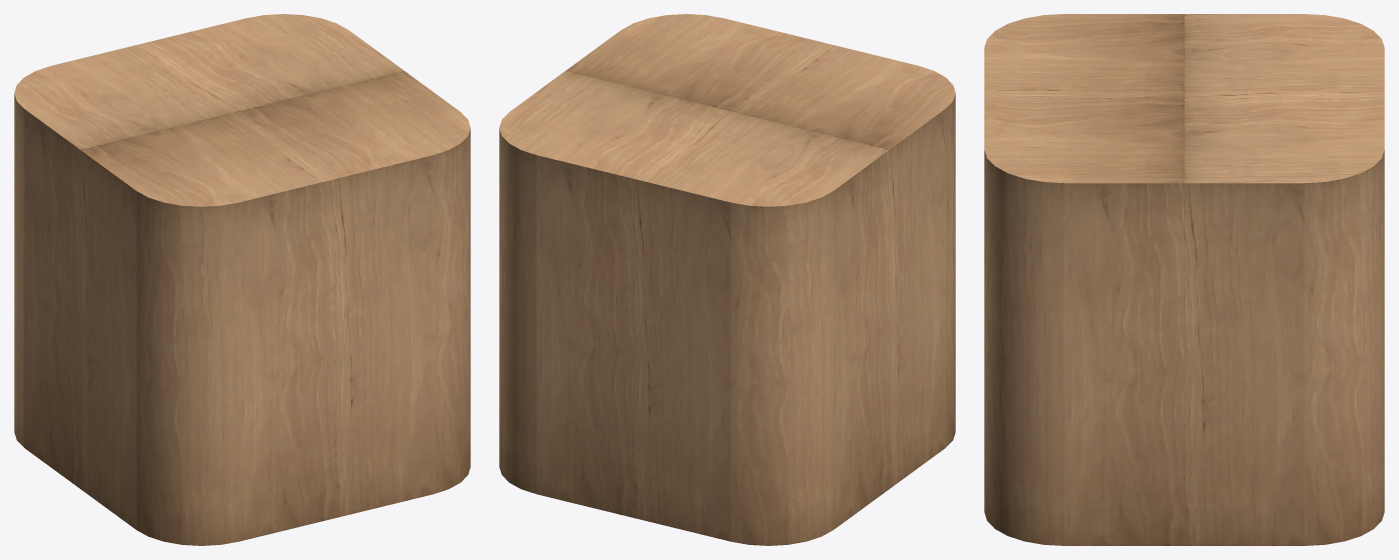
Rendered from WoodenBlock.obj.
3 views of the same model, side by side, from view 1: azimuth 30°, elevation 25°; view 2: azimuth 150°, elevation 25°; view 3: azimuth 270°, elevation 25° (orthographic). The views are drawn at different scales.
Visible parts, largest first — view 1: cylinderSquare; view 2: cylinderSquare; view 3: cylinderSquare.
Part boxes in pixels (x1=…): cylinderSquare: x1=14, y1=14, x2=470, y2=545; cylinderSquare: x1=499, y1=14, x2=955, y2=545; cylinderSquare: x1=984, y1=14, x2=1384, y2=545.
Size of the model in its own units: 1 by 1 by 1.
Materials: 1 (1 with a texture image).
